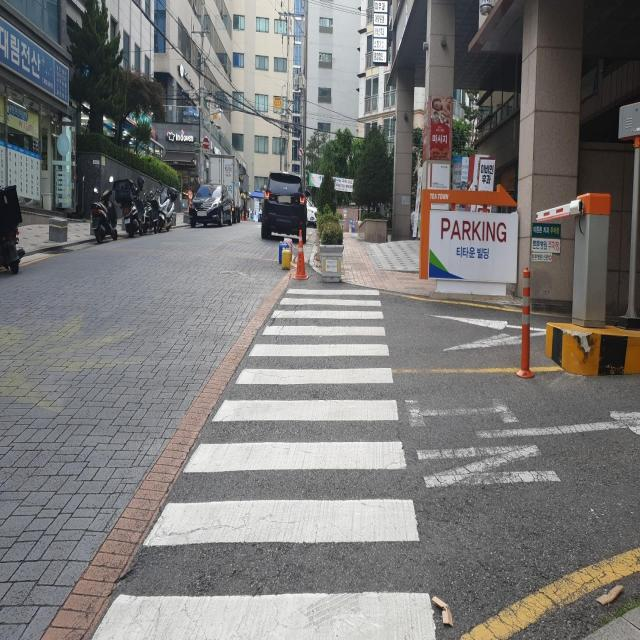횡단보도: (91, 287, 442, 640)
